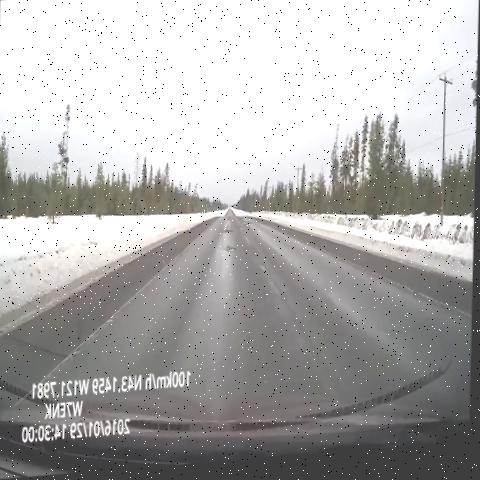pothole: (239, 218, 256, 237), (222, 222, 235, 244), (222, 245, 239, 261)
